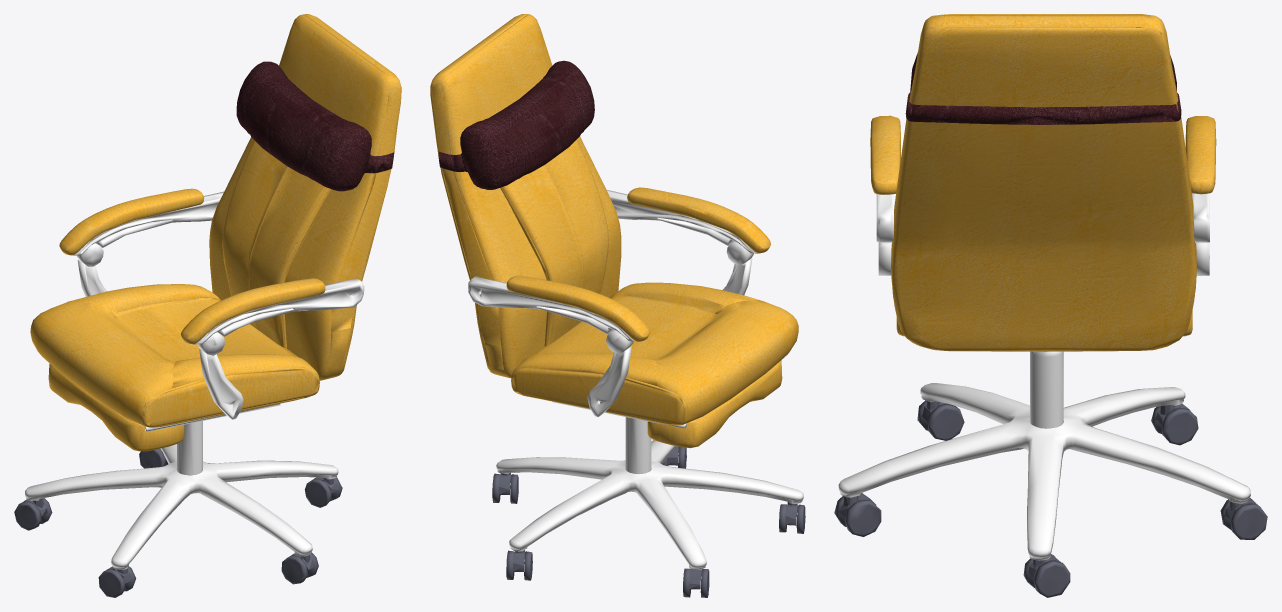
Rendered from movable_office_chair.gltf.
3 renders of one model, left to right at view 1: azimuth 30°, elevation 25°; view 2: azimuth 150°, elevation 25°; view 3: azimuth 270°, elevation 25°, orthographic. The views are drawn at different scales.
Visible parts, largest first — view 1: OfficeChair; view 2: OfficeChair; view 3: OfficeChair.
Part boxes in pixels (x1,y1,x2,y2): OfficeChair: (14,14,401,597); OfficeChair: (430,14,805,597); OfficeChair: (834,14,1267,597).
Size of the model in its own units: 0.7748 by 1.14 by 0.7605.
4 materials, 2 textured.
